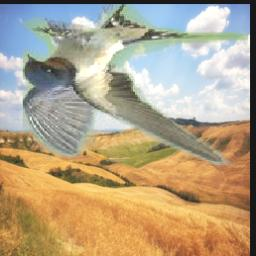Swallow: (22, 5, 247, 168)
